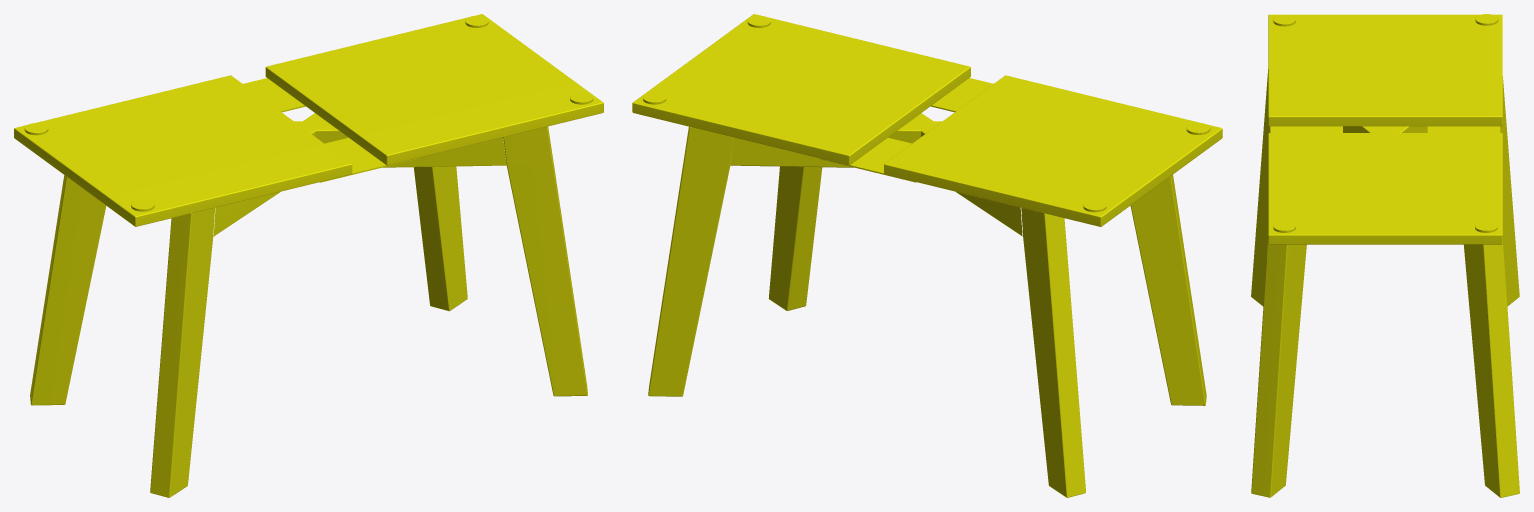
The model's file is Feet_Wood_01.gltf.
The picture shows the model from 3 angles, left to right: view 1: azimuth 30°, elevation 25°; view 2: azimuth 150°, elevation 25°; view 3: azimuth 270°, elevation 25°; orthographic projection. The views are drawn at different scales.
Visible parts, largest first — view 1: top1, polySurface13, polySurface11, polySurface16, polySurface20, pCube6, pCube5; view 2: top1, polySurface11, polySurface13, polySurface20, polySurface16, pCube5, pCube6; view 3: top1, polySurface11, polySurface13, pCube5, pCube6, polySurface16.
Boxes of the visible parts, x1,y1,x2,y2 form: top1: [14, 14, 603, 226]; polySurface13: [30, 126, 587, 405]; polySurface11: [150, 166, 467, 497]; polySurface16: [294, 121, 506, 167]; polySurface20: [213, 113, 325, 236]; pCube6: [320, 137, 416, 182]; pCube5: [243, 78, 305, 112]; top1: [632, 14, 1222, 226]; polySurface11: [648, 126, 1206, 405]; polySurface13: [768, 166, 1085, 497]; polySurface20: [730, 121, 941, 167]; polySurface16: [909, 113, 1022, 236]; pCube5: [820, 137, 916, 182]; pCube6: [931, 78, 993, 112]; top1: [1268, 14, 1502, 244]; polySurface11: [1251, 69, 1519, 497]; polySurface13: [1251, 76, 1519, 497]; pCube5: [1427, 126, 1500, 132]; pCube6: [1270, 126, 1342, 132]; polySurface16: [1376, 126, 1427, 132].
Bounding box in the file's own units: 0.69 × 0.3986 × 0.3555.
Materials: 1 (1 with a texture image).
